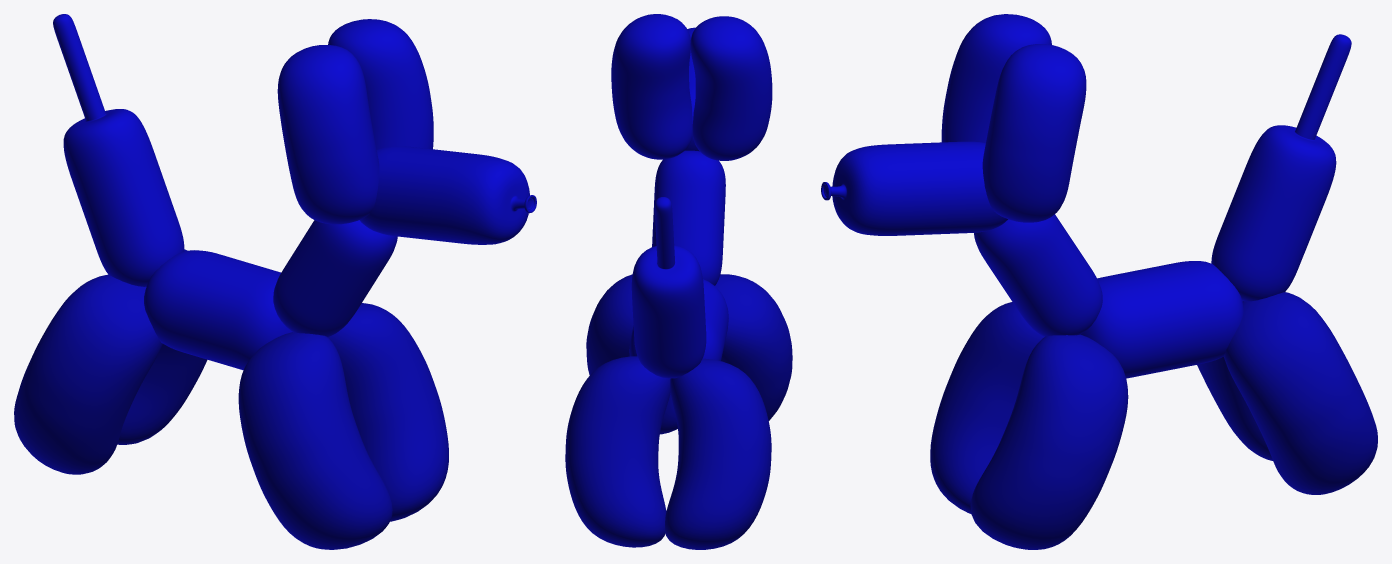
The model's file is DogBalloon.obj.
3 views of the same model, side by side, from view 1: azimuth 30°, elevation 25°; view 2: azimuth 150°, elevation 25°; view 3: azimuth 270°, elevation 25° (orthographic). The views are drawn at different scales.
Visible parts, largest first — view 1: Dog; view 2: Dog; view 3: Dog.
Part boxes in pixels (<box>): Dog: <box>14,14,536,549</box>; Dog: <box>565,14,792,549</box>; Dog: <box>821,14,1377,549</box>.
Size of the model in its own units: 0.575 by 0.877 by 0.9017.
